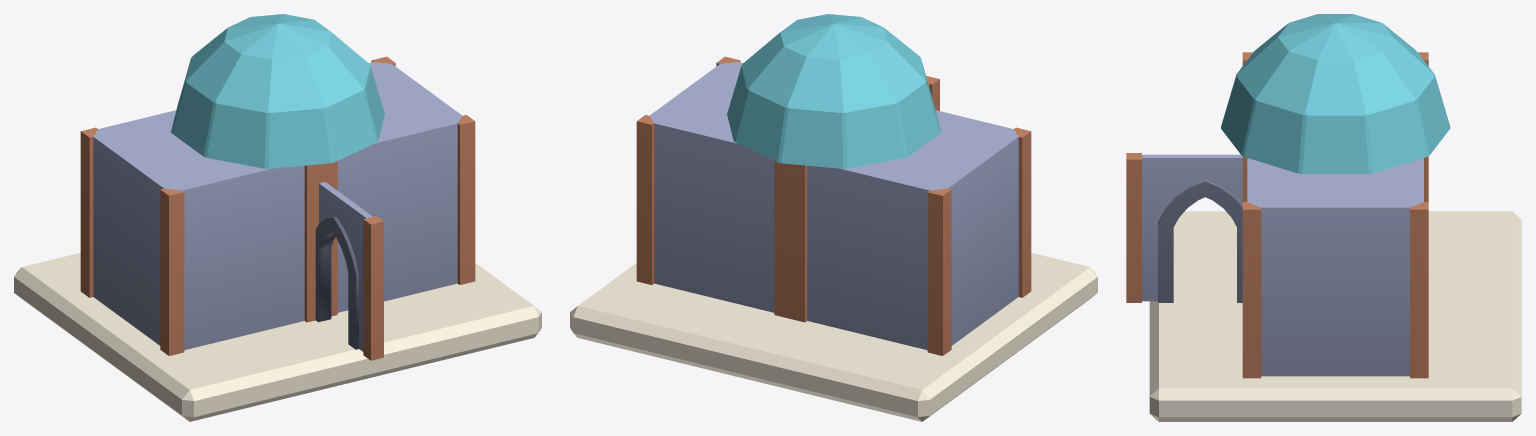
Rendered from middle_eastern-house.glb.
The picture shows the model from 3 angles, left to right: view 1: azimuth 30°, elevation 25°; view 2: azimuth 150°, elevation 25°; view 3: azimuth 270°, elevation 25°; orthographic projection. The views are drawn at different scales.
Visible parts, largest first — view 1: keep; view 2: keep; view 3: keep.
Part boxes in pixels (bbox=[...]): keep: bbox=[14, 14, 541, 421]; keep: bbox=[570, 14, 1097, 421]; keep: bbox=[1126, 14, 1521, 421].
Bounding box in the file's own units: 1.47 × 1.15 × 1.33.
5 materials, 3 textured.
